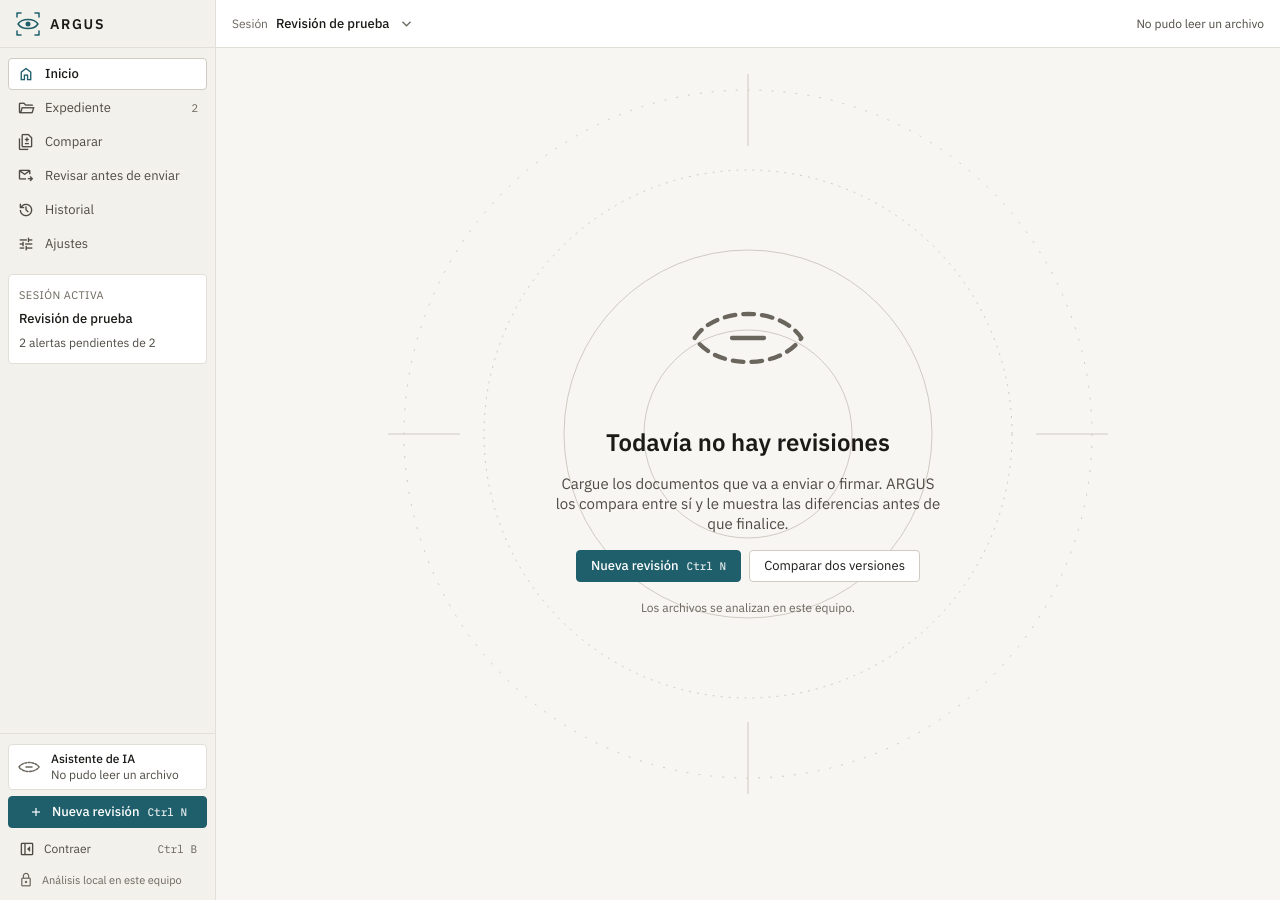
Scenario: Detalle de alerta: decisiones, deshacer y origen › decide en el detalle, indica el valor correcto y deshace con la confirmación
Click the button "Expediente 2" at point(108, 108), box [8, 92, 207, 124]
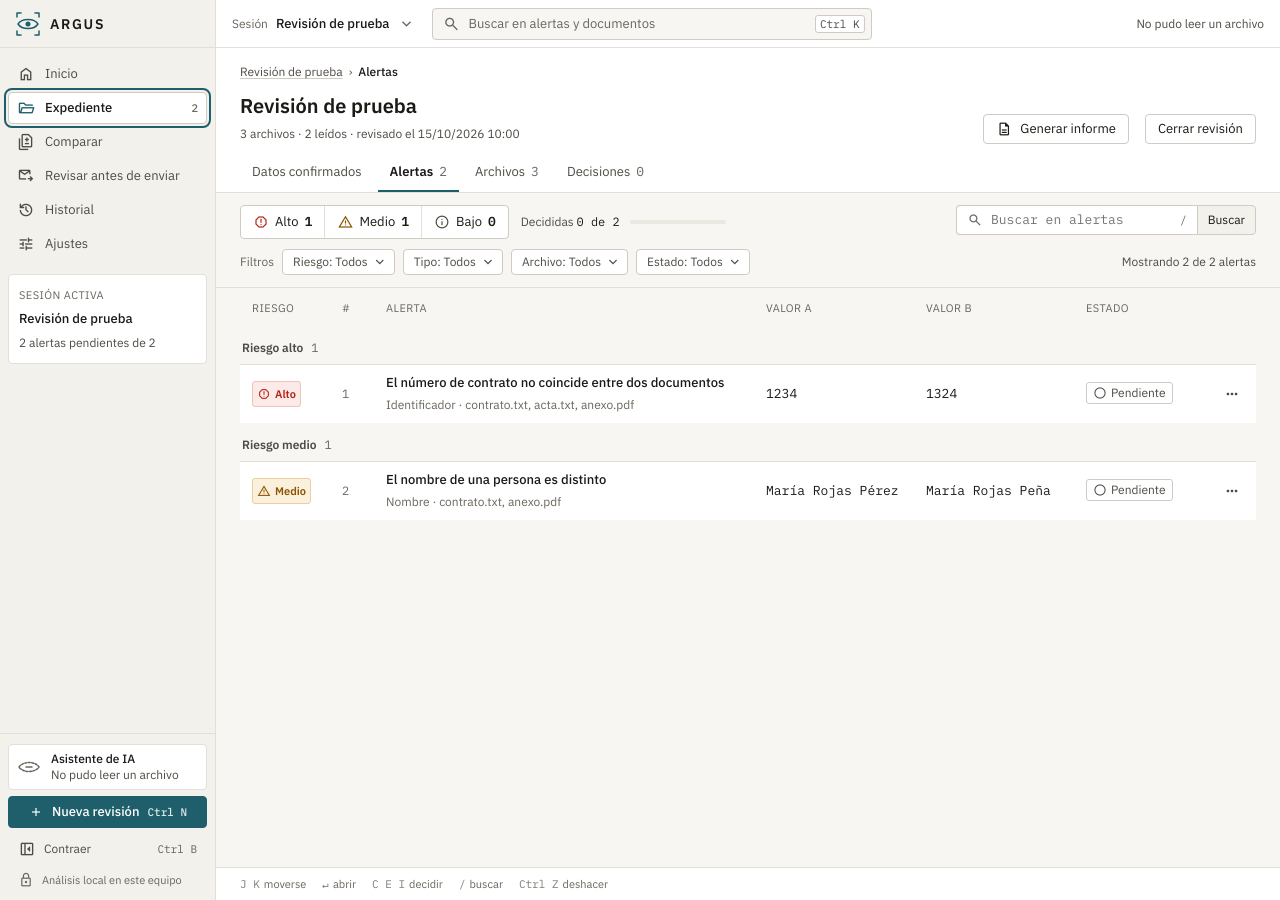
Click the row that starts with "Alto" at point(748, 394), box [240, 364, 1256, 423]
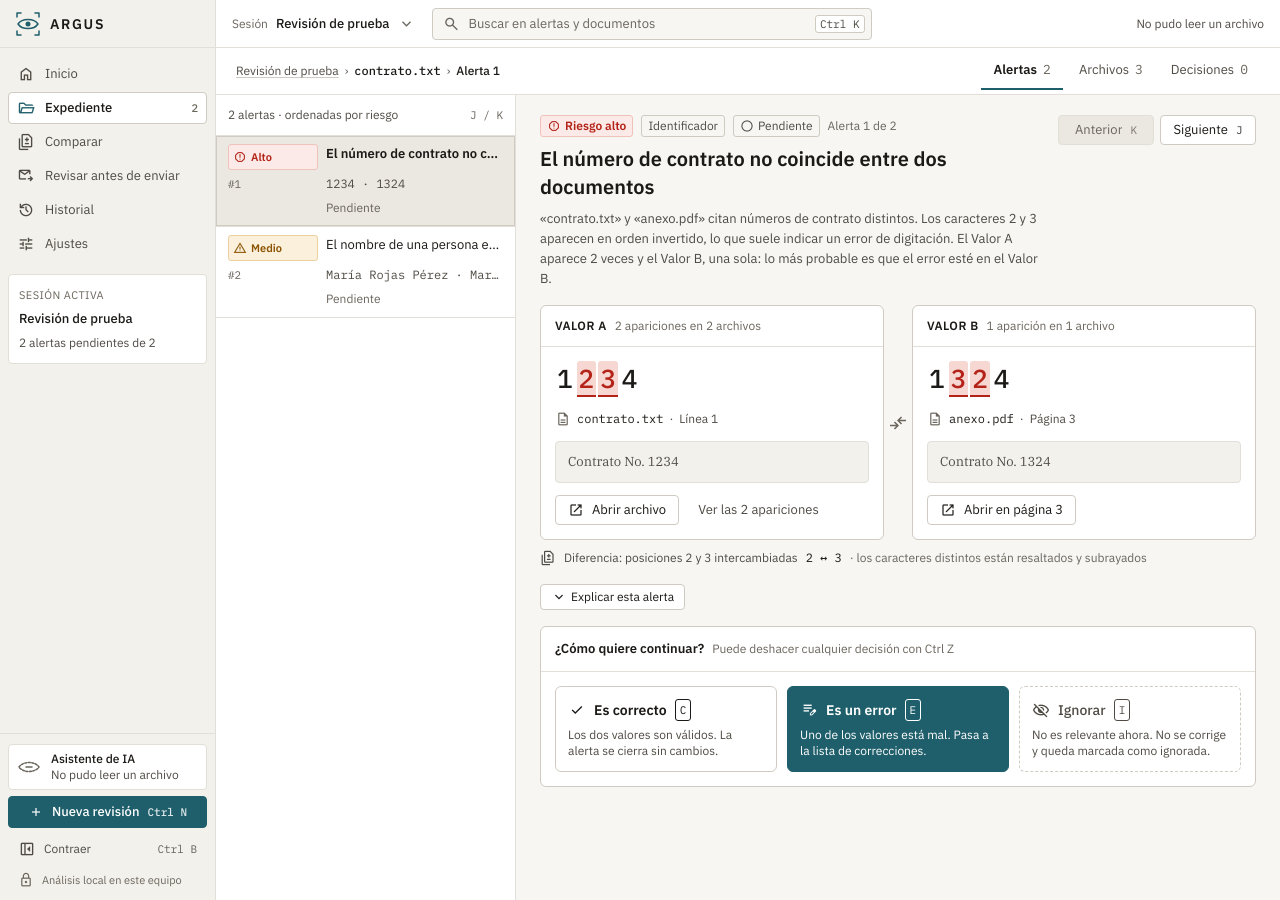
Click the button "Es un error" at point(898, 729), box [787, 686, 1009, 772]
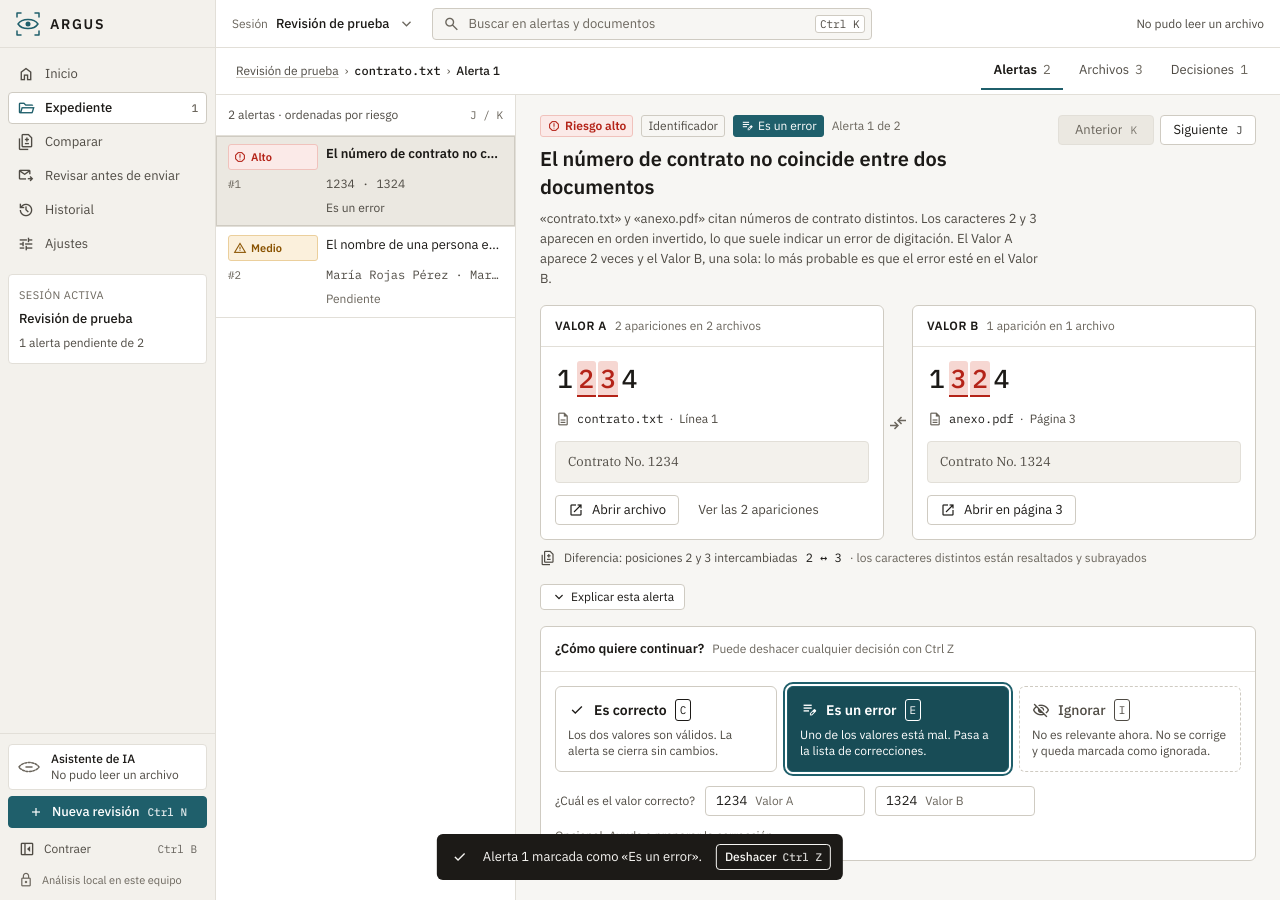
Now the text "Diferencia: posiciones 2 y 3 intercambiadas" is shown, box [564, 548, 798, 568]
Now the text "Alerta 1 marcada como «Es un error»." is shown, box [483, 847, 702, 867]
Click the button "1234 Valor A" at point(785, 801), box [705, 786, 865, 816]
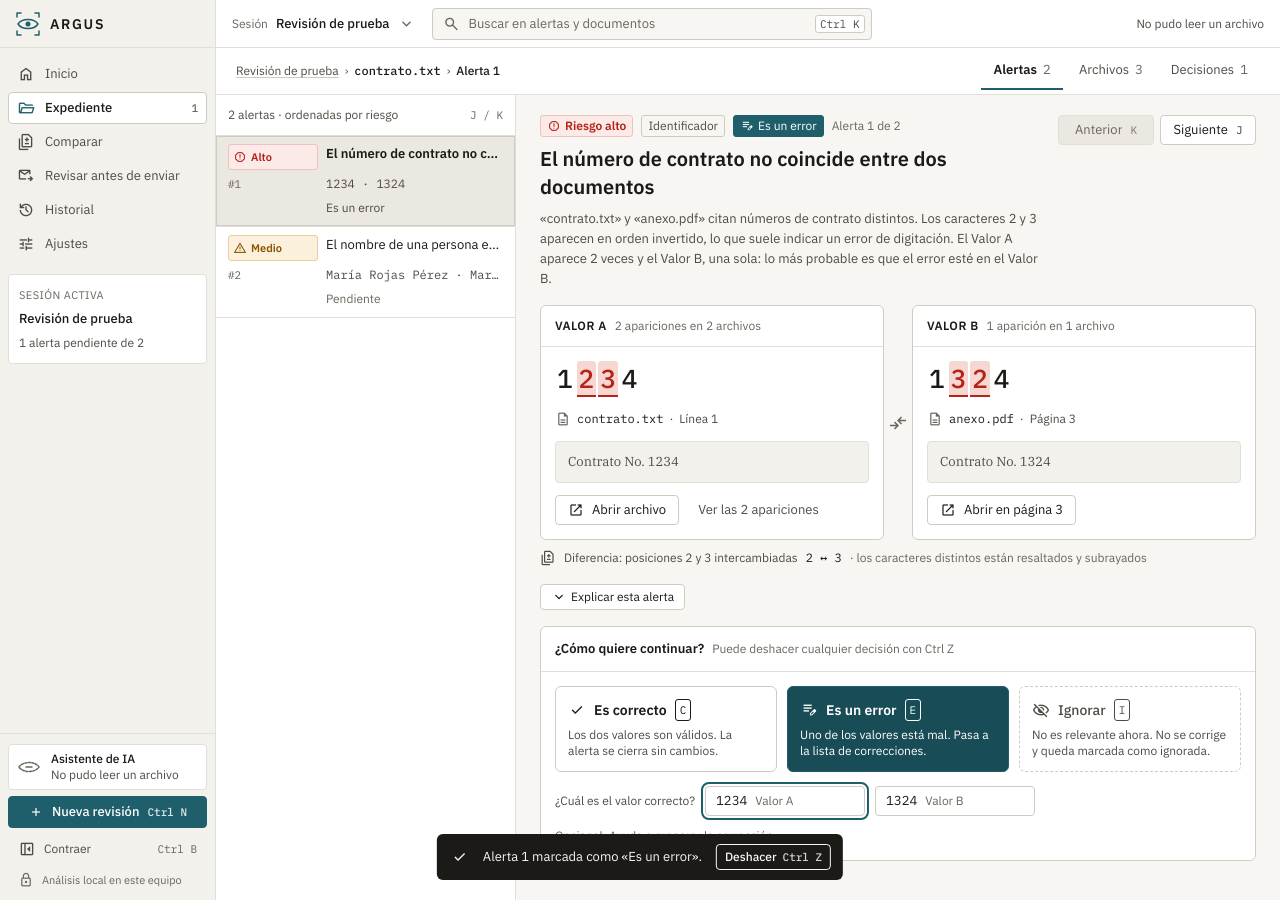
Click the button "Deshacer Ctrl Z" at point(774, 857), box [716, 844, 831, 870]
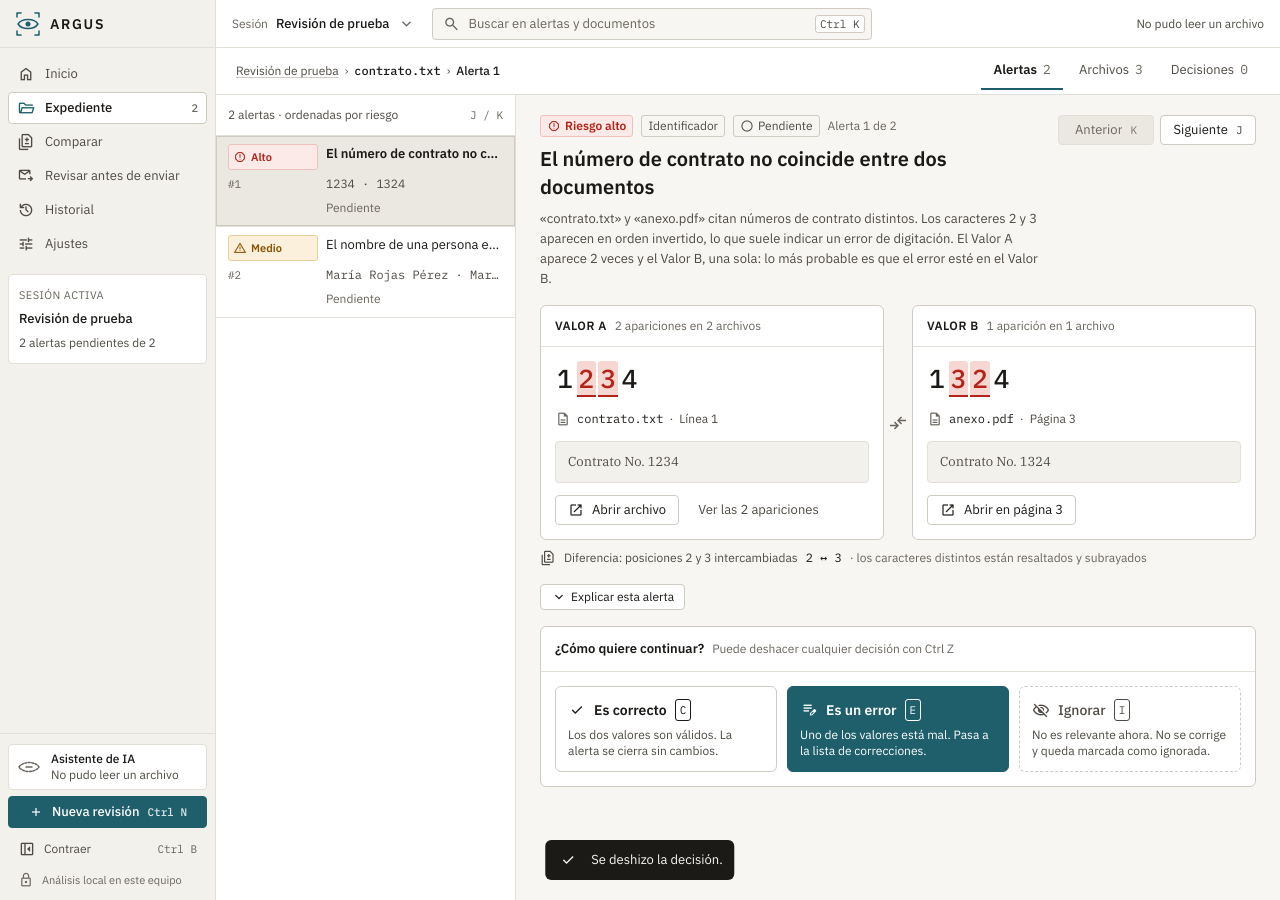
Now the text "Se deshizo la decisión." is shown, box [591, 850, 723, 870]
